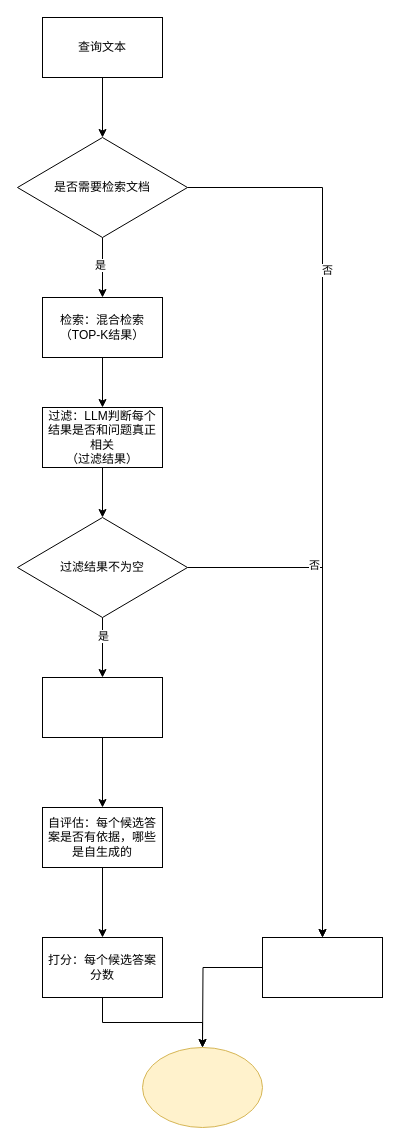
Some shapes in this 400 by 1145 pixel diagram are drawn without their labels. Here are the shapes that lost their labels. From the top down, the box of each, then its label:
(42, 676, 162, 738): 生成：根据过滤结果集，生成多个候选答案
(262, 936, 382, 998): 生成：LLM自生成答案
(142, 1046, 262, 1128): 结束
